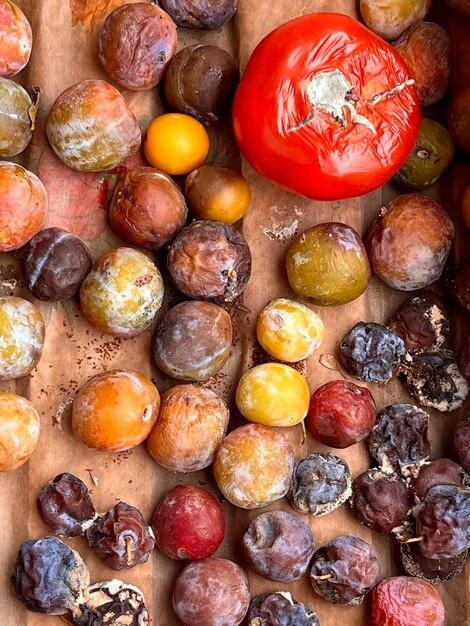Grape Rotten: (1, 1, 468, 624)
